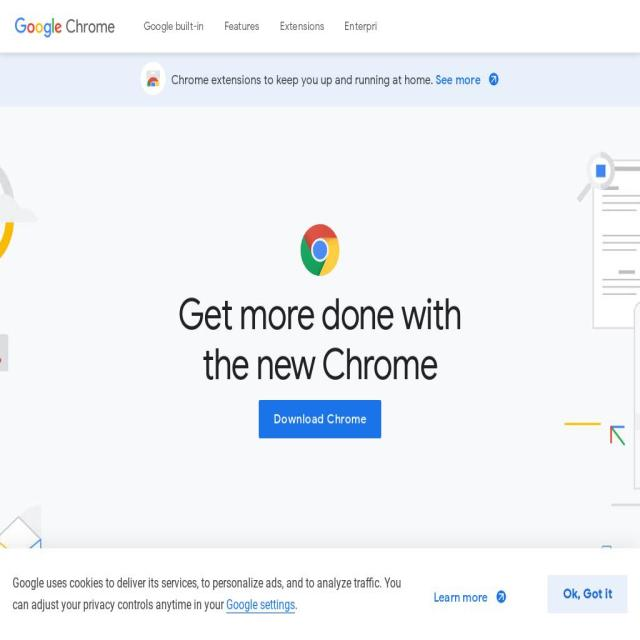button: (258, 400, 382, 438), (548, 575, 628, 613), (15, 16, 115, 37), (434, 588, 507, 606), (435, 71, 500, 89), (226, 597, 295, 613), (115, 23, 127, 41)
heading: (173, 290, 467, 390)
image: (298, 222, 341, 278), (15, 16, 115, 38), (140, 62, 166, 95), (486, 68, 498, 84), (493, 585, 505, 601)
link: (143, 0, 204, 53), (279, 0, 324, 53), (344, 0, 386, 53)
text: (12, 575, 402, 613), (171, 72, 433, 86), (214, 0, 270, 53), (273, 411, 366, 427), (434, 588, 491, 606), (121, 31, 181, 46), (435, 72, 483, 88), (295, 596, 297, 612)
